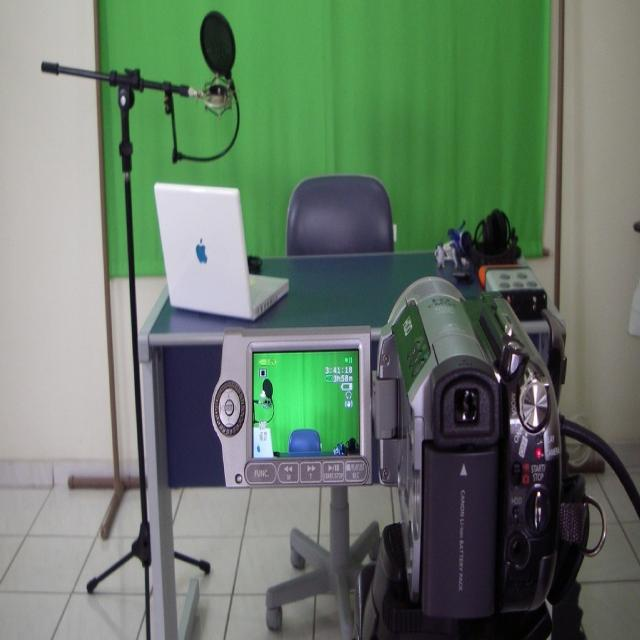chair: (286, 171, 395, 256)
desk: (139, 248, 564, 639)
laptop: (153, 184, 289, 320)
